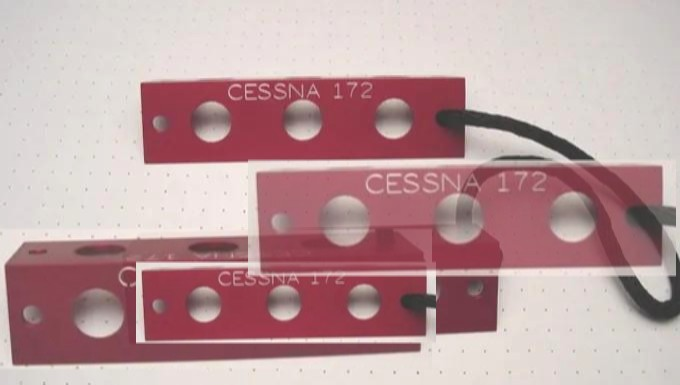chock: (0, 229, 432, 369), (248, 160, 676, 276), (119, 221, 507, 347), (135, 74, 477, 166), (136, 262, 436, 343)
